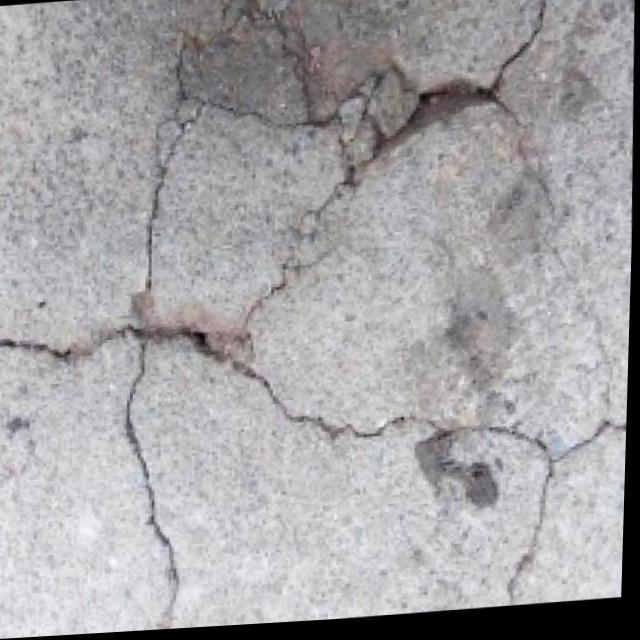Crack: (0, 236, 634, 515), (23, 90, 233, 638), (60, 0, 575, 187)
